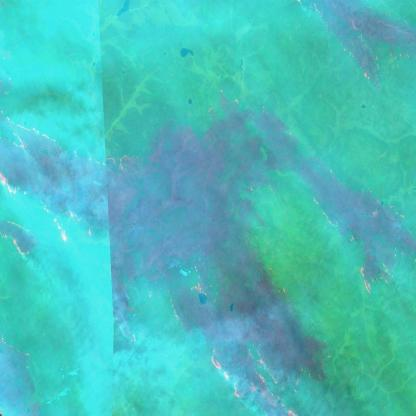fire: (0, 114, 92, 288), (207, 329, 328, 409), (326, 0, 416, 106), (341, 194, 408, 306), (203, 83, 265, 126), (183, 258, 213, 306)
